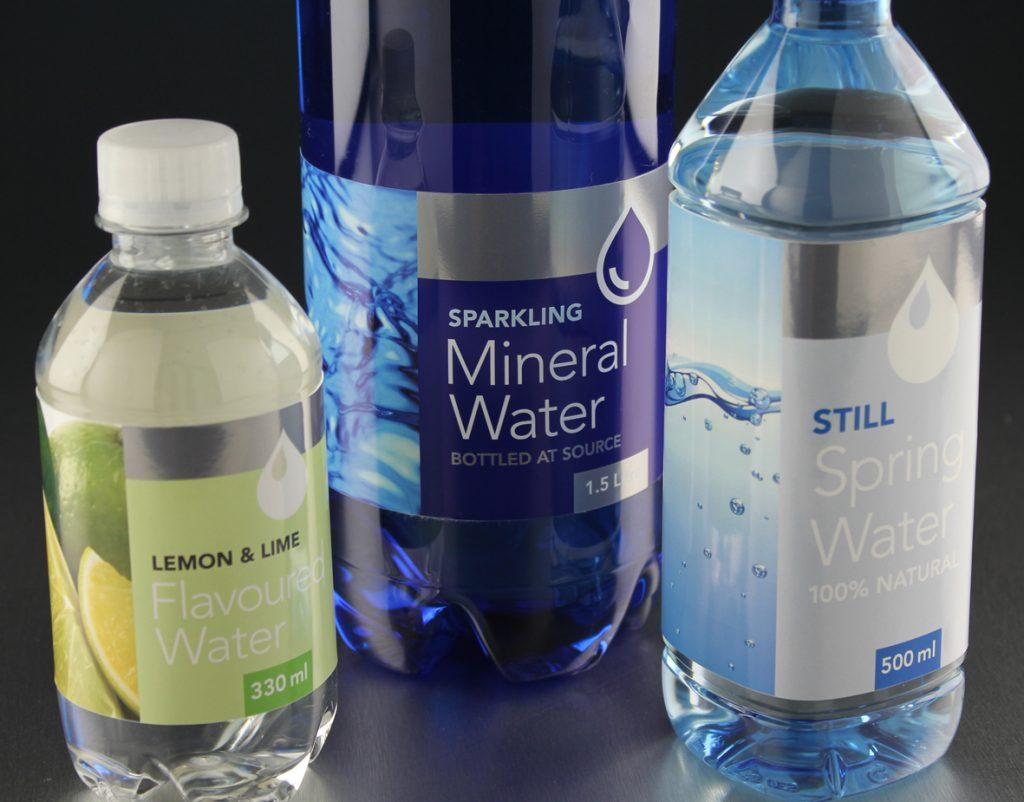plastic: (661, 0, 986, 802), (293, 0, 661, 683), (40, 119, 340, 802)
